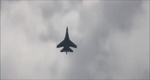maybay_muctieu: (56, 26, 77, 53)
